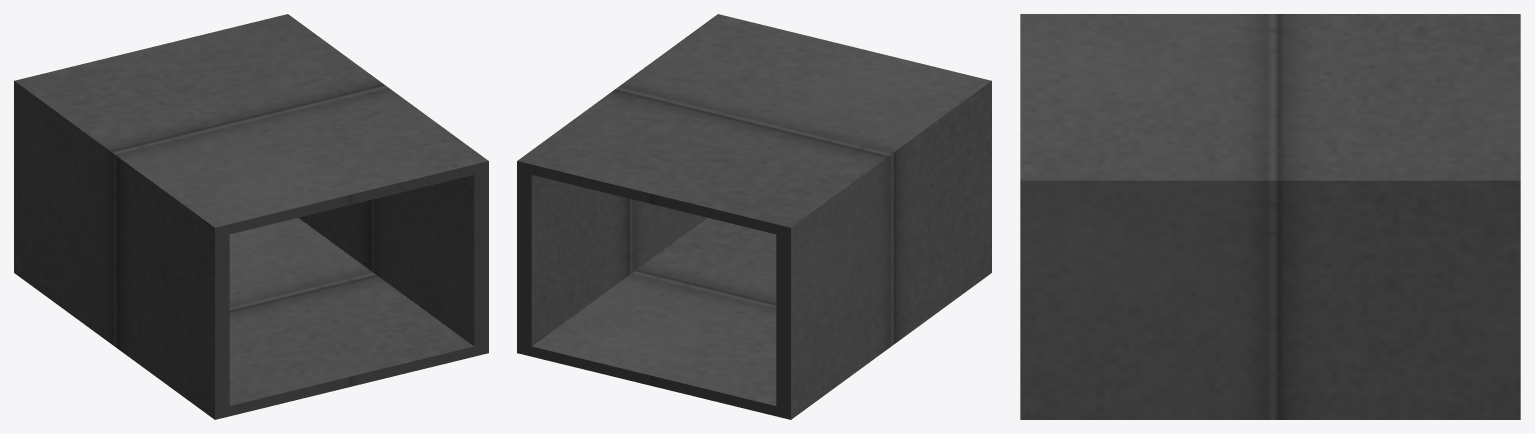
The model's file is SqueredEnter.fbx.
3 renders of one model, left to right at view 1: azimuth 30°, elevation 25°; view 2: azimuth 150°, elevation 25°; view 3: azimuth 270°, elevation 25°, orthographic. The views are drawn at different scales.
Parts seen in each view (by area): view 1: SqueredEnter; view 2: SqueredEnter; view 3: SqueredEnter.
Part boxes in pixels (bbox=[...]): SqueredEnter: bbox=[14, 14, 488, 419]; SqueredEnter: bbox=[517, 14, 991, 419]; SqueredEnter: bbox=[1020, 14, 1520, 419].
Size of the model in its own units: 27.17 by 18.22 by 34.51.
